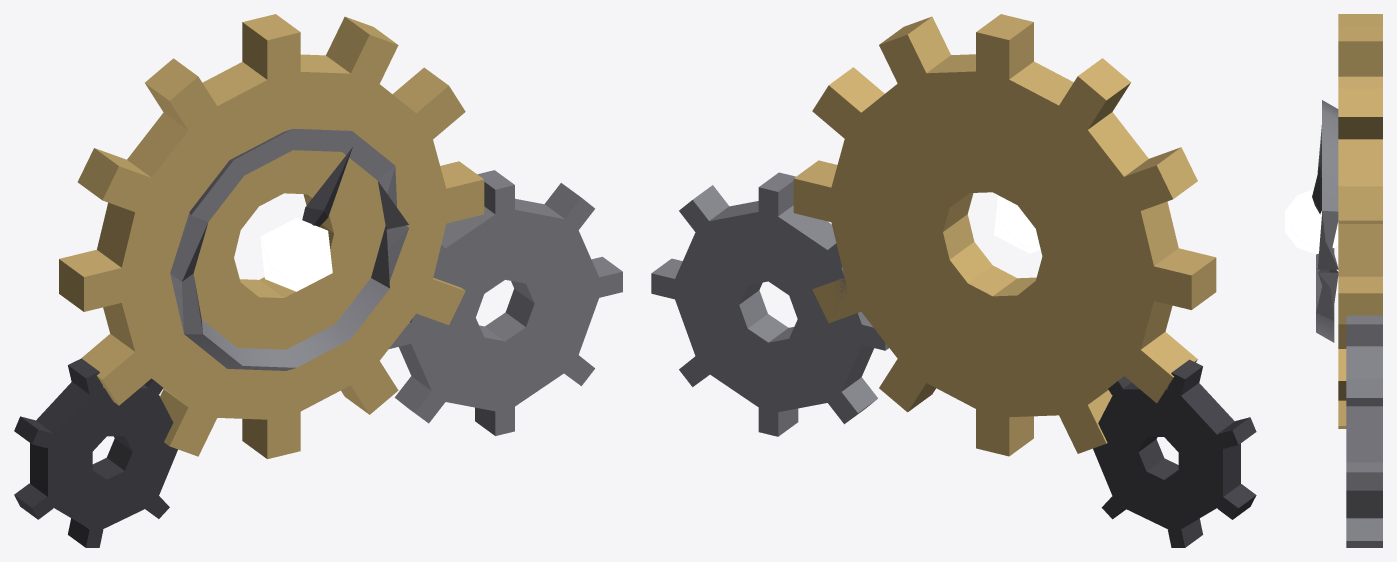
The model's file is gears.glb.
3 renders of one model, left to right at view 1: azimuth 30°, elevation 25°; view 2: azimuth 150°, elevation 25°; view 3: azimuth 270°, elevation 25°, orthographic. The views are drawn at different scales.
Visible parts, largest first — view 1: gears; view 2: gears; view 3: gears.
Part boxes in pixels (box(x1,y1,x2,y2)): gears: box(14, 14, 622, 547); gears: box(651, 14, 1256, 547); gears: box(1285, 14, 1382, 547).
Bounding box in the file's own units: 0.3005 × 0.2299 × 0.0483.
